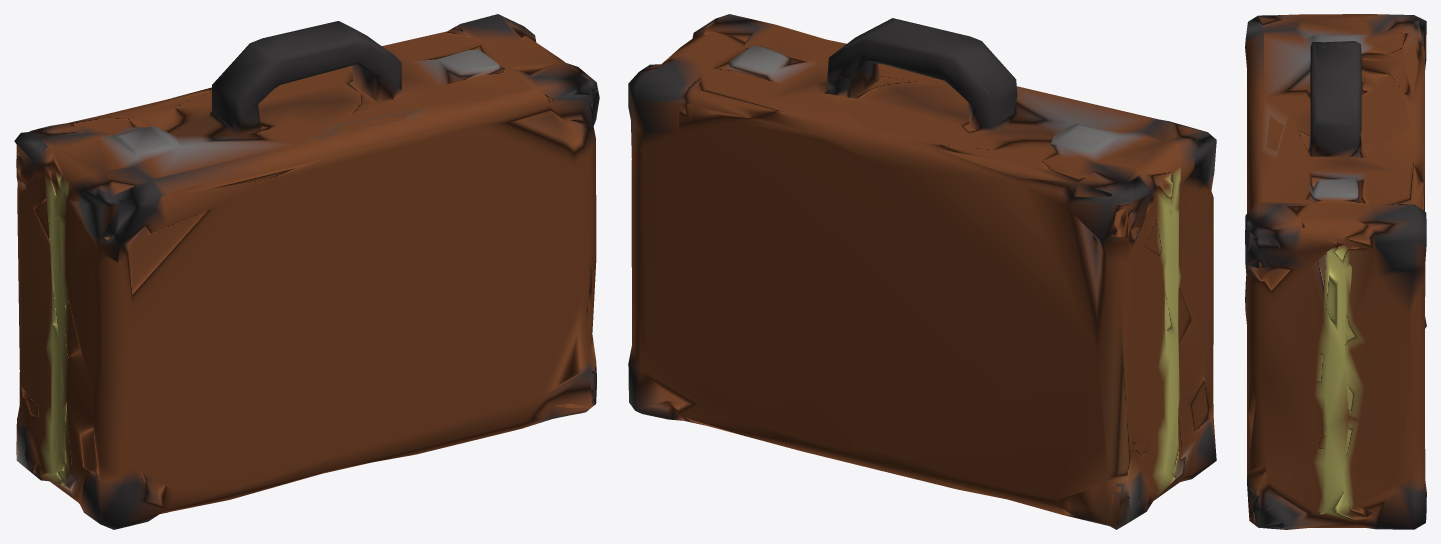
File: gen3d-briefcase-lod0.glb
The picture shows the model from 3 angles, left to right: view 1: azimuth 30°, elevation 25°; view 2: azimuth 150°, elevation 25°; view 3: azimuth 270°, elevation 25°; orthographic projection. The views are drawn at different scales.
Parts seen in each view (by area): view 1: part_0; view 2: part_0; view 3: part_0.
Part boxes in pixels (x1,y1,x2,y2): part_0: (14,14,599,529); part_0: (628,14,1216,529); part_0: (1245,14,1426,529).
Bounding box in the file's own units: 1.3 × 1 × 0.4506.
